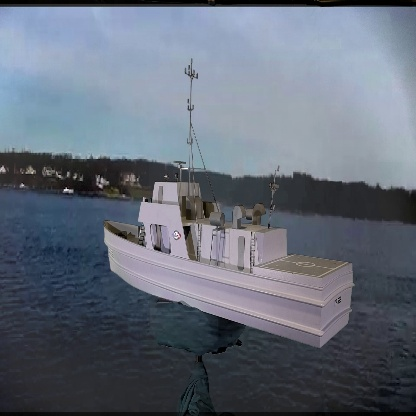YP689: (102, 61, 354, 349)
